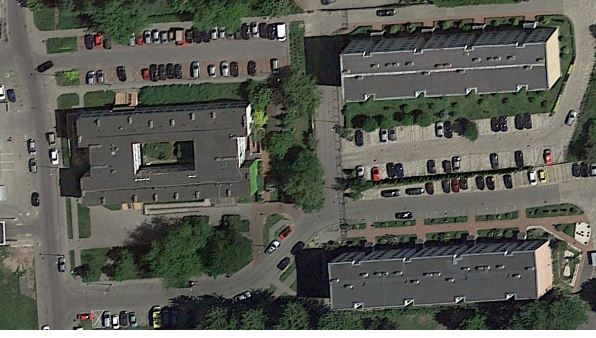block of flats: (64, 88, 266, 216), (322, 231, 560, 319), (335, 21, 569, 109)
